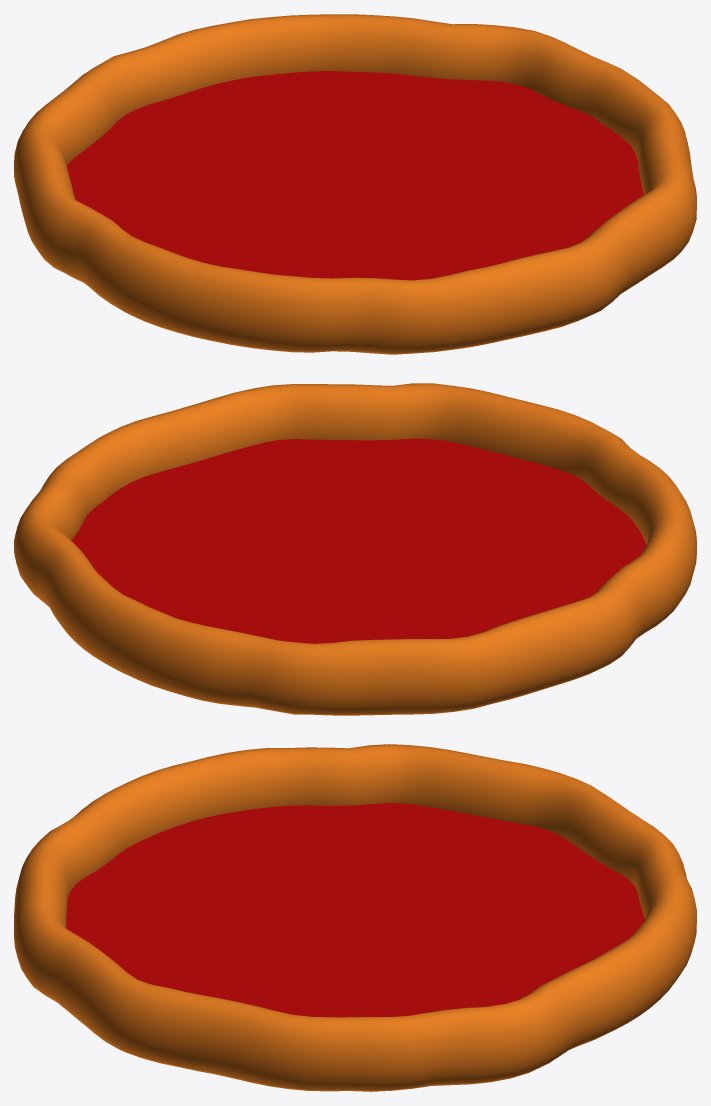
Rendered from mapa3.fbx.
3 renders of one model, top to bottom at view 1: azimuth 30°, elevation 25°; view 2: azimuth 150°, elevation 25°; view 3: azimuth 270°, elevation 25°, orthographic. The views are drawn at different scales.
Visible parts, largest first — view 1: Retopo_BezierCurve.004, Circle.010; view 2: Retopo_BezierCurve.004, Circle.010; view 3: Retopo_BezierCurve.004, Circle.010.
Boxes of the visible parts, x1=… form: Retopo_BezierCurve.004: x1=14, y1=14, x2=696, y2=354; Circle.010: x1=66, y1=71, x2=643, y2=280; Retopo_BezierCurve.004: x1=14, y1=383, x2=696, y2=715; Circle.010: x1=71, y1=438, x2=646, y2=643; Retopo_BezierCurve.004: x1=14, y1=744, x2=696, y2=1091; Circle.010: x1=66, y1=803, x2=644, y2=1017.
Bounding box in the file's own units: 521 × 65.61 × 521.
